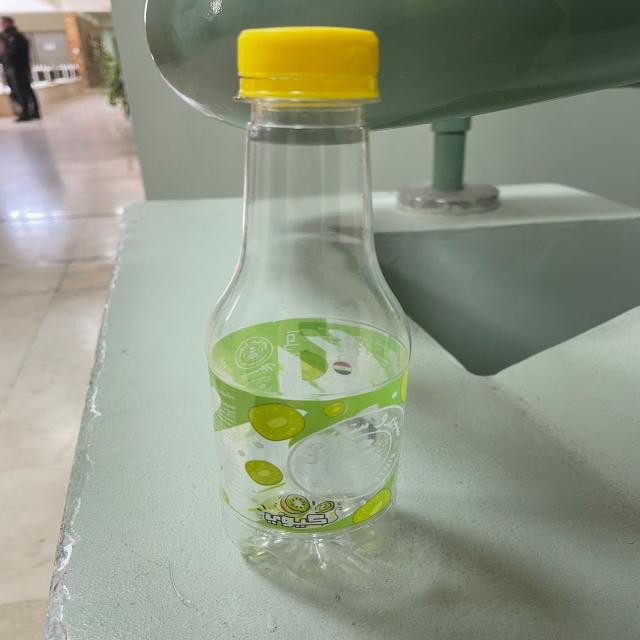plastic: (204, 25, 413, 580)
